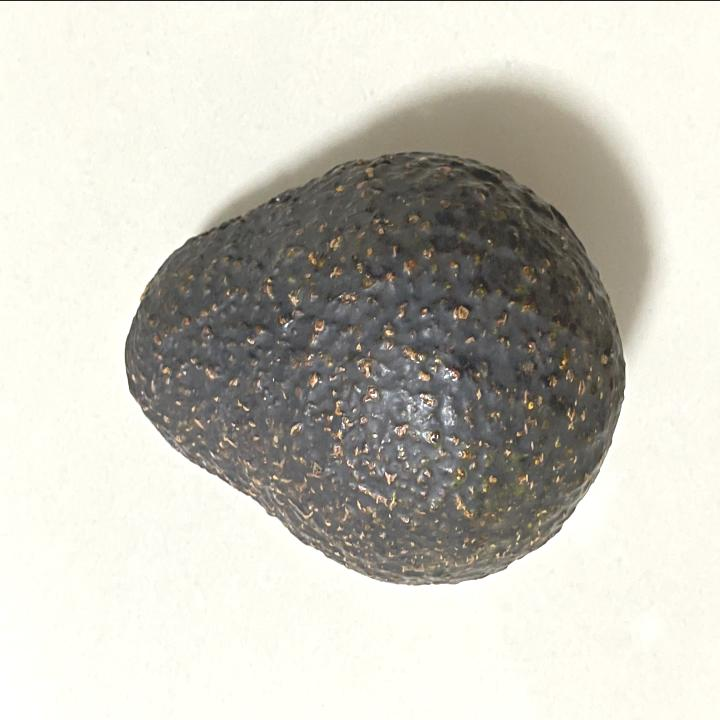Level2: (114, 140, 632, 592)
